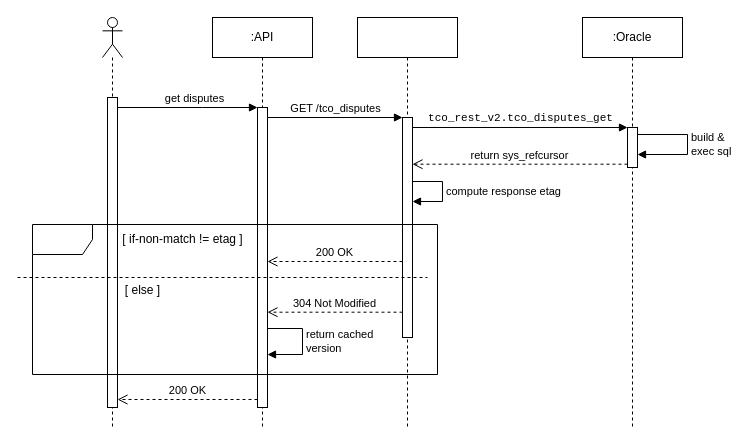
Some shapes in this 749 by 445 pixel diagram are drawn without their labels. Each missing label, with the box of its shape:
:ORDS: (356, 16, 458, 428)
alt: (32, 224, 438, 374)
